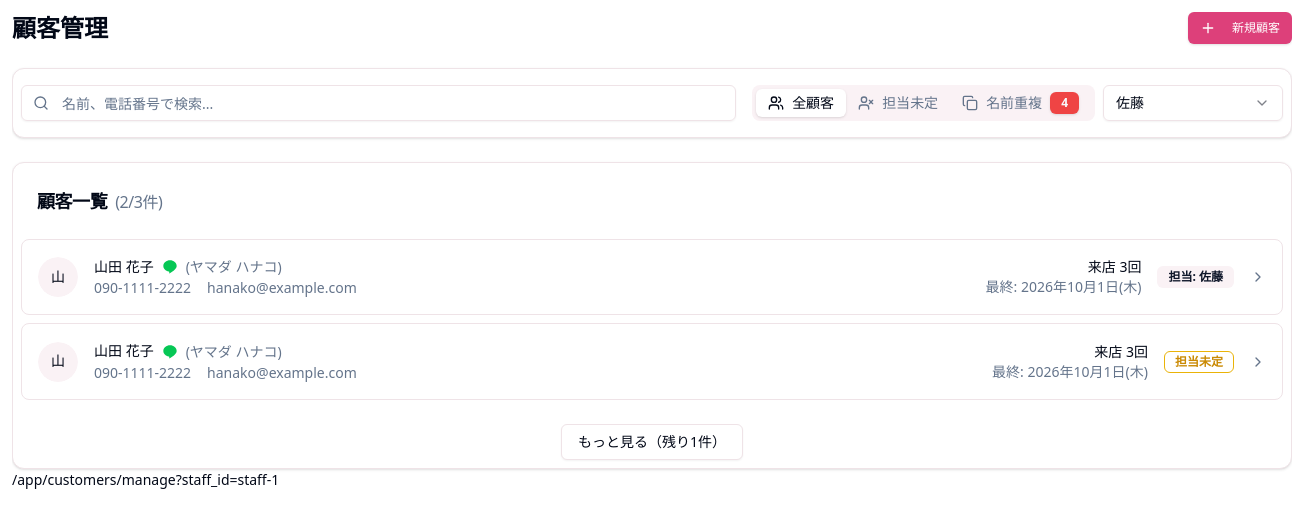
it: 顧客管理 list › 顧客管理 lists every customer 50 at a time with the 担当未定 / 名前重複 tabs
Expected: the heading "顧客管理" is shown, top-left (12, 12), bottom-right (108, 44)
Expected: the text "(2/3件)" is shown, top-left (115, 191), bottom-right (162, 213)
Click the button "もっと見る（残り1件）". click: (652, 442)
box: top-left (561, 424), bottom-right (743, 460)
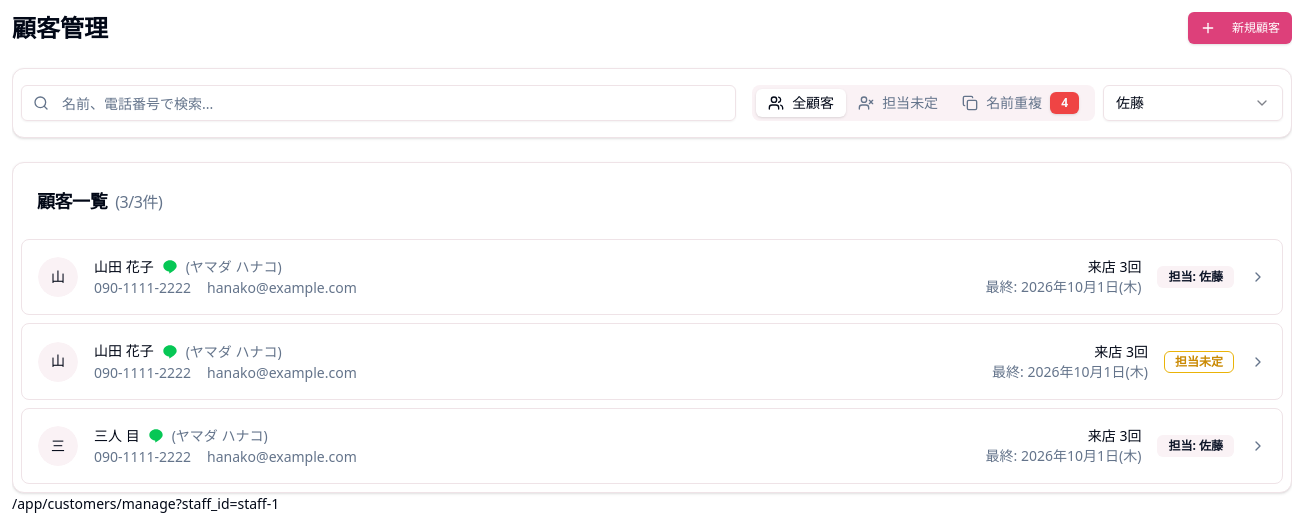
the customer opened from here comes back here
Click the element that starts with "三人 目". click: (652, 446)
box: top-left (21, 408), bottom-right (1283, 484)
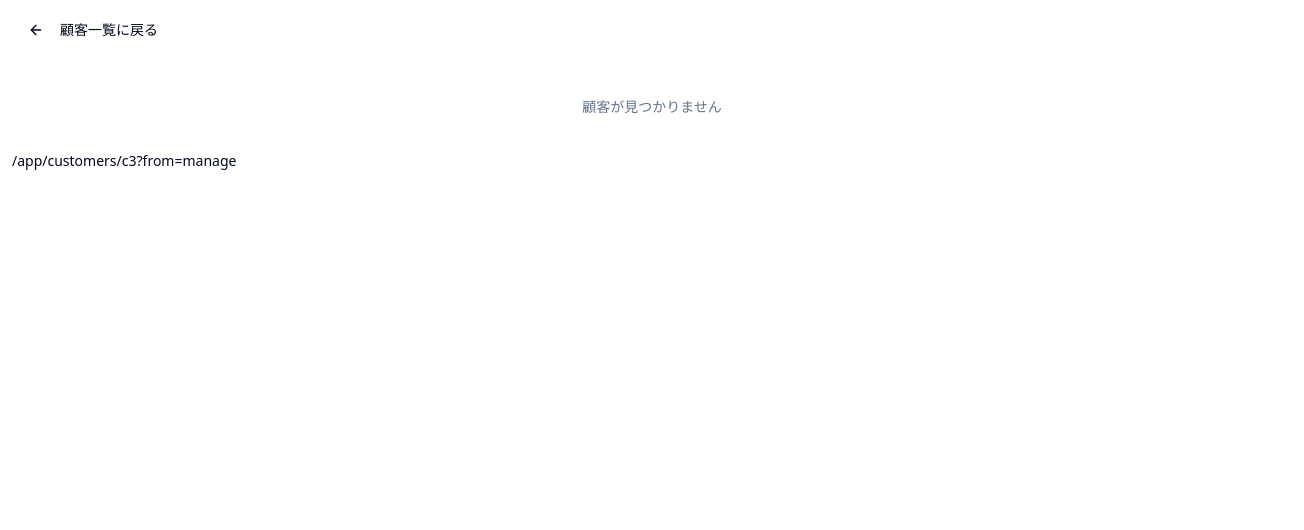
Result: the text with test id "where" reads "/app/customers/c3?from=manage" at top-left (12, 151), bottom-right (236, 170)
